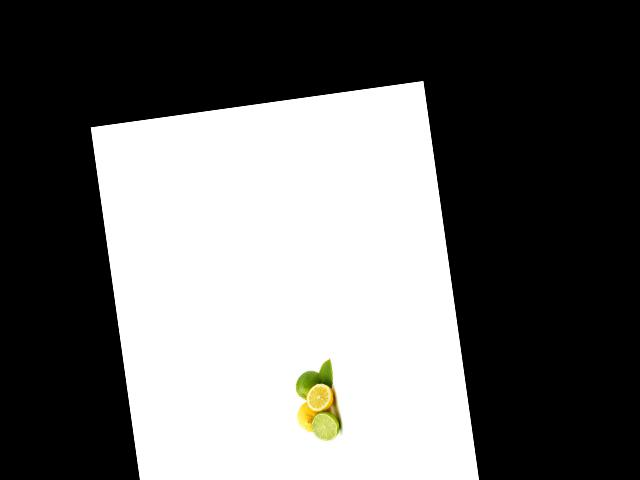lemon: (293, 400, 322, 434)
